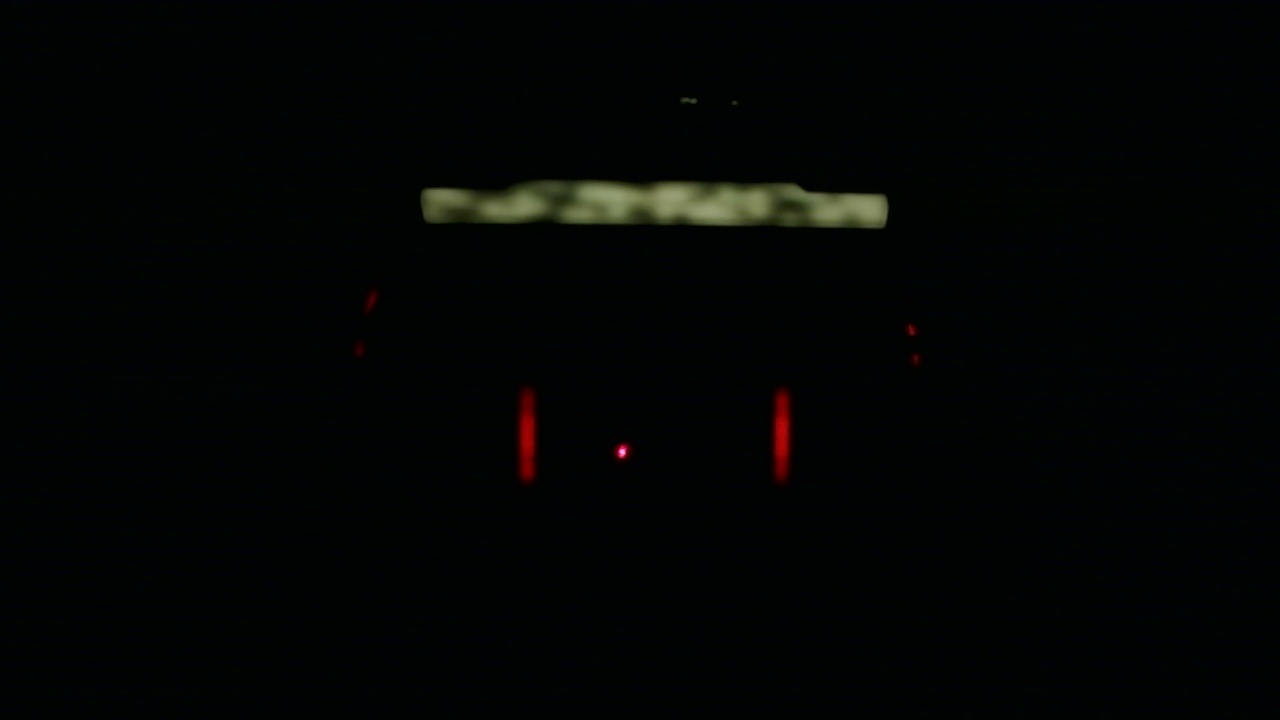lamp: (518, 386, 535, 482), (776, 387, 788, 484)
pair1: (518, 388, 791, 484)
